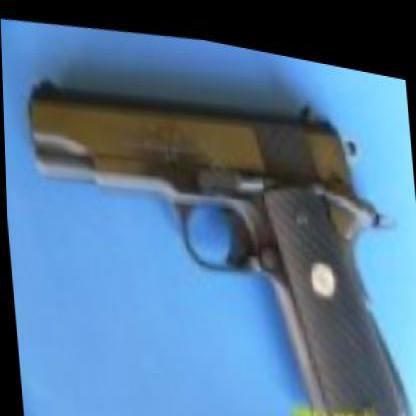pistol: (12, 24, 415, 415)
